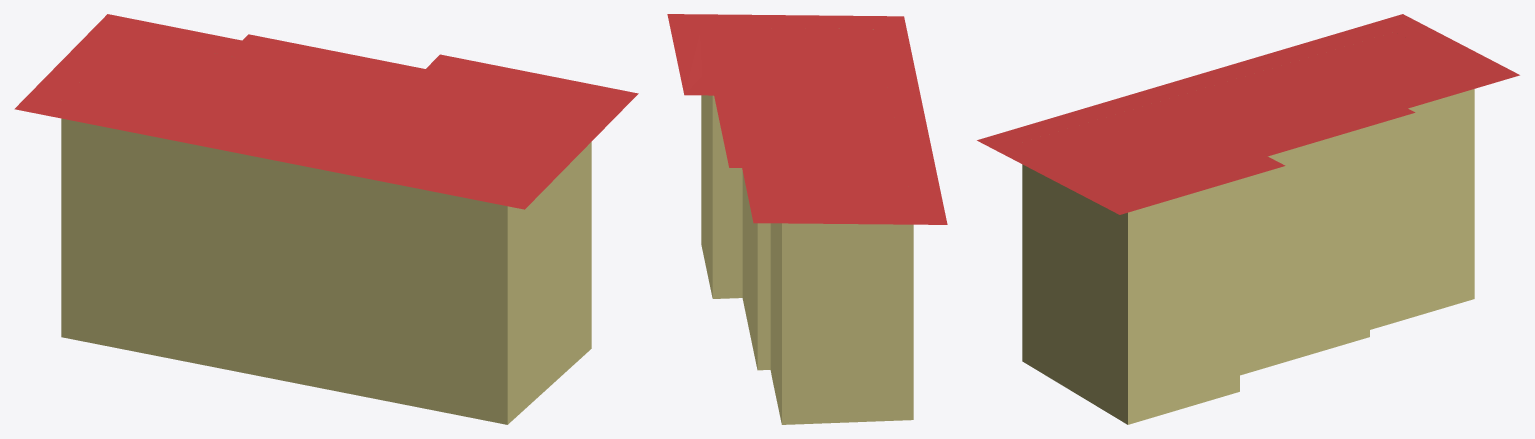
The picture shows the model from 3 angles, left to right: view 1: azimuth 30°, elevation 25°; view 2: azimuth 150°, elevation 25°; view 3: azimuth 270°, elevation 25°; orthographic projection. The views are drawn at different scales.
Bounding box in the file's own units: 11.49 × 12.41 × 5.77.
